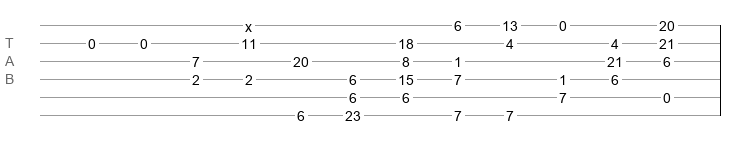0: (88, 36, 96, 46), (140, 36, 148, 46), (559, 18, 567, 28), (663, 90, 671, 100)
1: (454, 54, 462, 64), (559, 72, 567, 82)
11: (241, 36, 257, 46)
13: (502, 18, 518, 28)
15: (398, 72, 414, 82)
18: (398, 36, 414, 46)
2: (192, 72, 200, 82), (245, 72, 253, 82)
20: (293, 54, 309, 64), (659, 18, 675, 28)
21: (607, 54, 623, 64), (659, 36, 675, 46)
23: (345, 108, 361, 118)
4: (506, 36, 514, 46), (611, 36, 619, 46)
6: (297, 108, 305, 118), (349, 72, 357, 82), (349, 90, 357, 100), (402, 90, 410, 100), (454, 18, 462, 28), (611, 72, 619, 82), (663, 54, 671, 64)
7: (192, 54, 200, 64), (454, 108, 462, 118), (454, 72, 462, 82), (506, 108, 514, 118), (559, 90, 567, 100)
8: (402, 54, 410, 64)
x: (245, 19, 252, 27)
